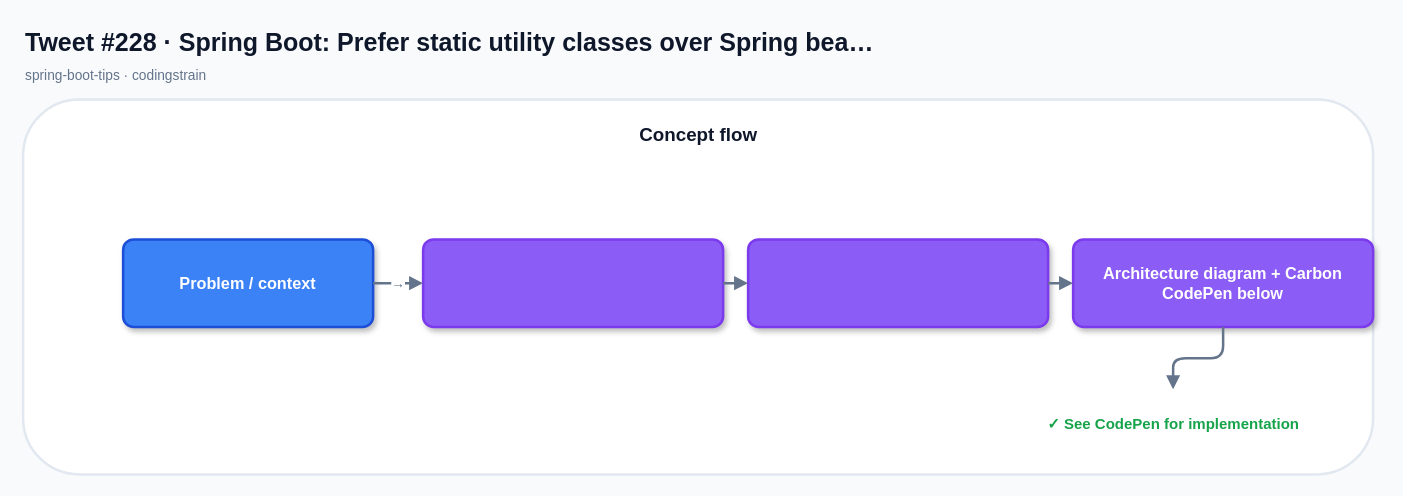
This 1403x496 diagram has some shape labels left out. Here are the shapes that lost their labels. From the top down, the centre of each, then its label:
At (x=573, y=284): "#SpringBoot #SoftwareDevelopment".
At (x=898, y=284): "Runnable sample: `spring-boot-tips`".
